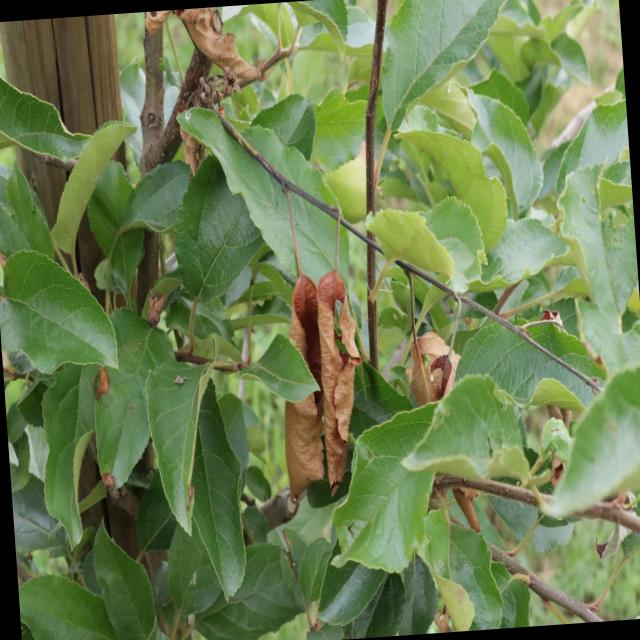-FireBlight-: (278, 269, 369, 496), (140, 3, 276, 111), (390, 255, 456, 398)
